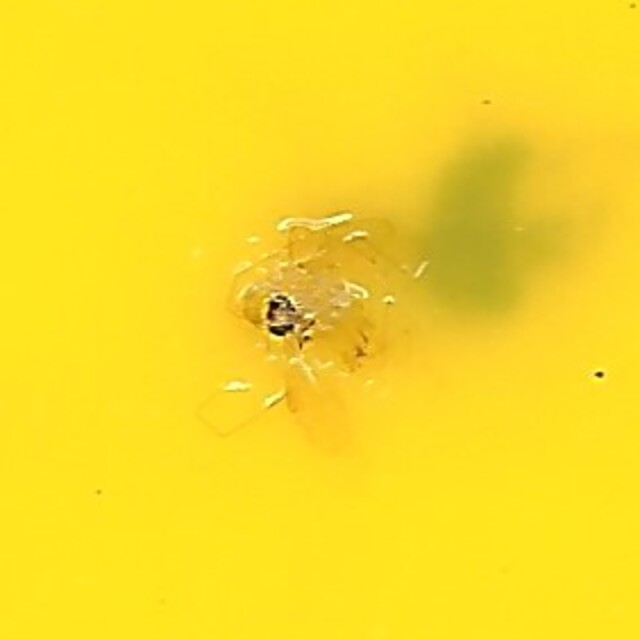Nematocera: (227, 200, 413, 440)
